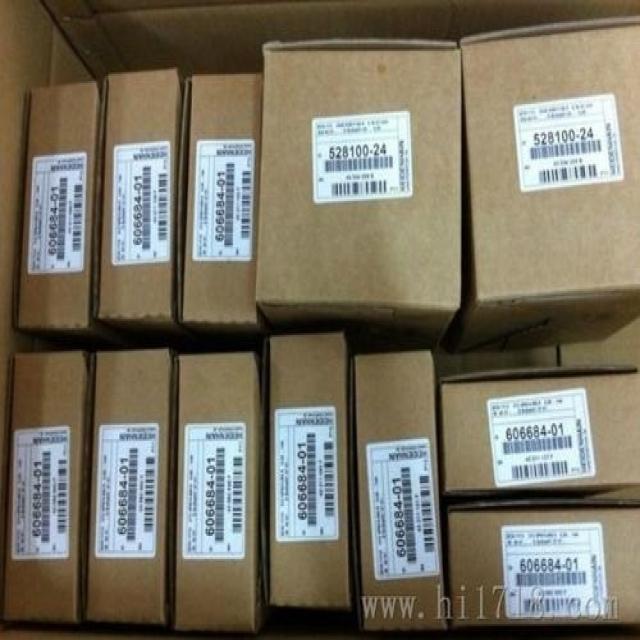box: (442, 18, 639, 357), (256, 42, 461, 359), (440, 368, 639, 502), (352, 351, 445, 630), (172, 357, 263, 632), (87, 349, 175, 621), (446, 501, 639, 625), (4, 353, 90, 621), (265, 332, 349, 606), (96, 70, 183, 320), (15, 83, 101, 334), (177, 73, 262, 325)
